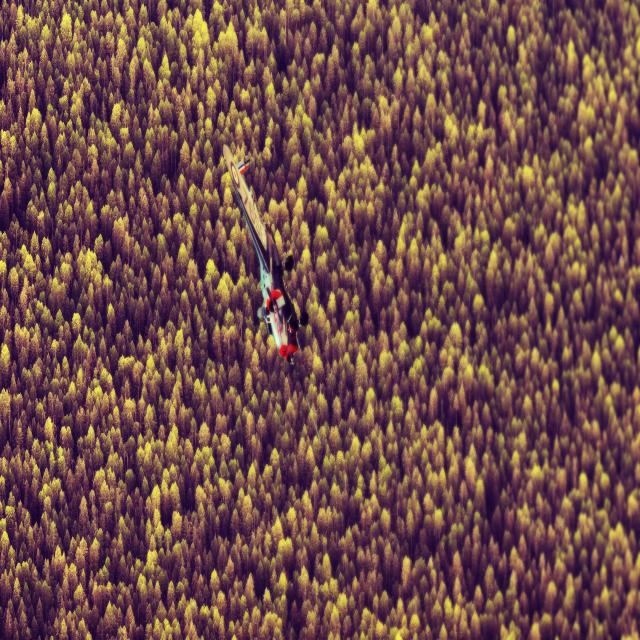airplane: (222, 143, 308, 366)
